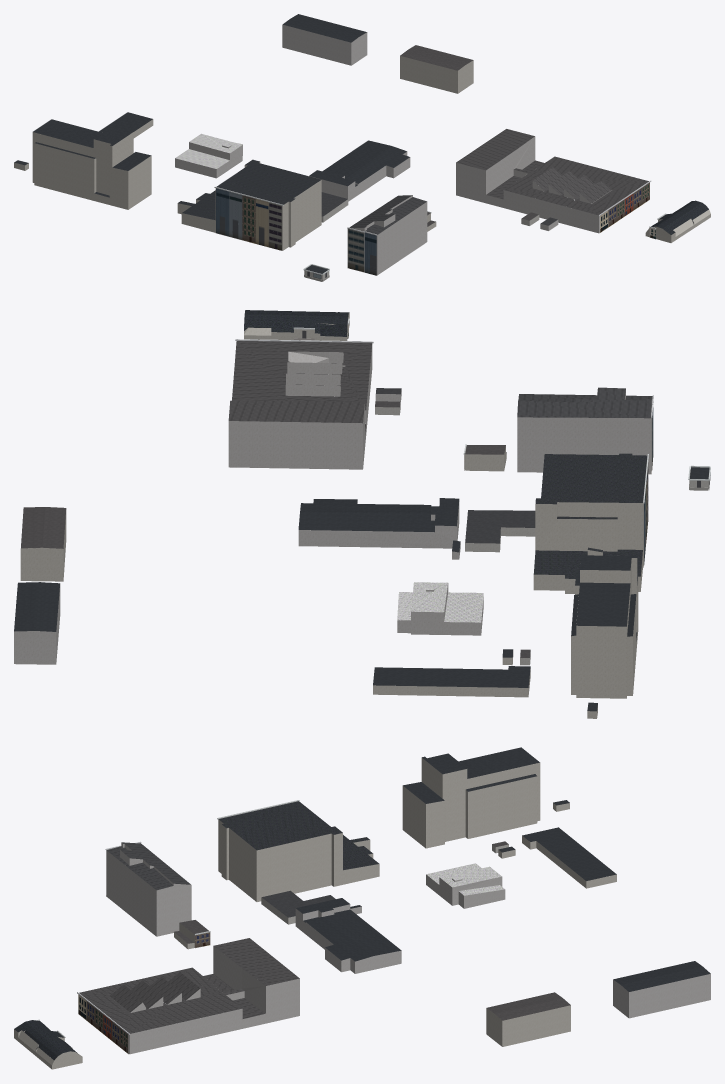
The picture shows the model from 3 angles, top to bottom: view 1: azimuth 30°, elevation 25°; view 2: azimuth 150°, elevation 25°; view 3: azimuth 270°, elevation 25°; orthographic projection. The views are drawn at different scales.
Parts seen in each view (by area): view 1: bldg_6003921257, bldg_6003921281_roof, bldg_6003921281, bldg_6006773933_facade0, bldg_6006773933_roof, bldg_6006773933, bldg_6006376313, bldg_6003921278_roof, bldg_6008397032, bldg_6003921257_roof, bldg_6008397031, bldg_6006376313_roof (+11 smaller); view 2: bldg_6003921281, bldg_6003921281_roof, bldg_6006773933_roof, bldg_6006773933, bldg_6003921257, bldg_6006376313, bldg_6003921278_roof, bldg_6003921257_roof, bldg_6006376313_roof, bldg_6003921263_roof, bldg_6003921278, bldg_6006774087_roof (+11 smaller); view 3: bldg_6003921257, bldg_6003921281_roof, bldg_6006773933, bldg_6003921281, bldg_6006376313, bldg_6006773933_roof, bldg_6003921278_roof, bldg_6008397032, bldg_6003921257_roof, bldg_6008397031, bldg_6003921263_roof, bldg_6003921278 (+10 smaller).
Part boxes in pixels (x1,y1,x2,y2): bldg_6003921257: (32,132,151,209); bldg_6003921281_roof: (456,129,648,215); bldg_6003921281: (456,136,611,233); bldg_6006773933_facade0: (214,186,283,250); bldg_6006773933_roof: (178,159,321,220); bldg_6006773933: (177,162,321,250); bldg_6006376313: (352,195,427,275); bldg_6003921278_roof: (309,140,409,186); bldg_6008397032: (282,24,367,65); bldg_6003921257_roof: (33,119,151,197); bldg_6008397031: (400,56,473,93); bldg_6006376313_roof: (349,195,426,234); bldg_6003921281: (228,345,372,469); bldg_6003921281_roof: (228,341,372,434); bldg_6006773933_roof: (533,453,647,578); bldg_6006773933: (533,458,647,593); bldg_6003921257: (571,558,638,698); bldg_6006376313: (517,390,652,474); bldg_6003921278_roof: (298,498,460,552); bldg_6003921257_roof: (571,555,638,641); bldg_6006376313_roof: (517,387,652,418); bldg_6003921263_roof: (373,666,530,687); bldg_6003921278: (298,501,460,559); bldg_6006774087_roof: (397,582,483,622); bldg_6003921257: (402,758,540,848); bldg_6003921281_roof: (79,938,299,1033); bldg_6006773933: (218,819,379,901); bldg_6003921281: (110,946,299,1054); bldg_6006376313: (106,842,191,936); bldg_6006773933_roof: (218,801,379,870); bldg_6003921278_roof: (296,898,401,961); bldg_6008397032: (613,974,710,1018); bldg_6003921257_roof: (403,747,539,803); bldg_6008397031: (486,1005,570,1046); bldg_6003921263_roof: (522,827,616,880); bldg_6003921278: (295,904,401,973).
Size of the model in its own units: 220 by 26.51 by 245.
20 materials, 12 textured.
